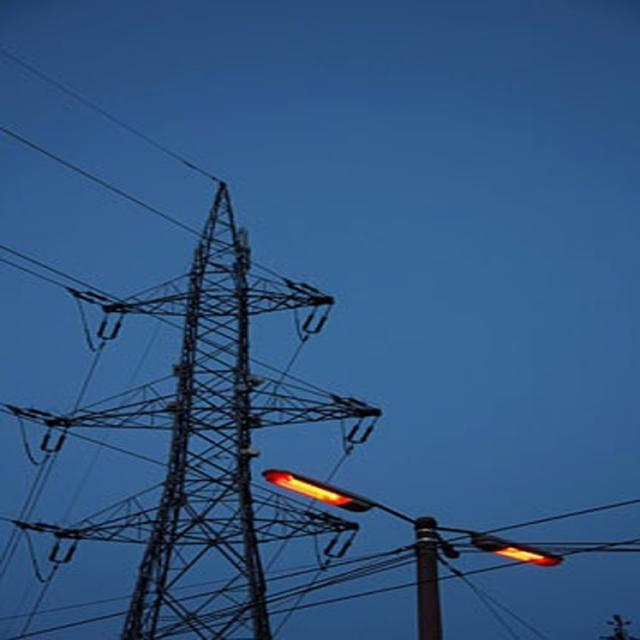non-critical vegetation: (57, 162, 386, 634)
